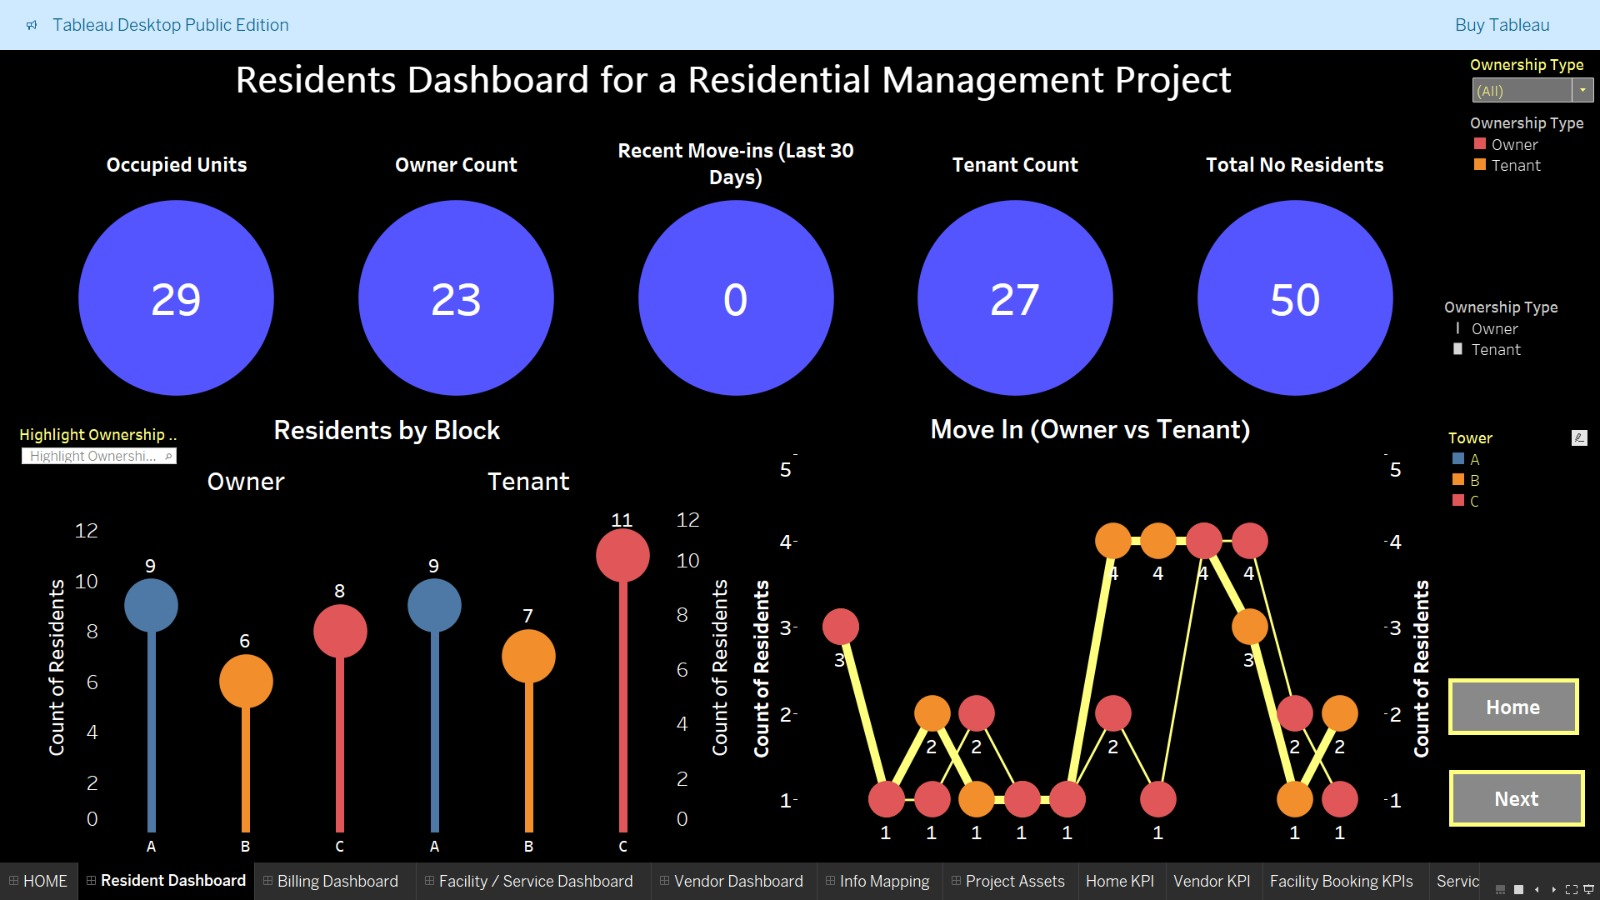

The page's visual inventory and layout, read from the dashboard file:
{"tool":"tableau","page":{"name":"Resident Dashboard","canvas":[1000,1000],"units":"permille","ordinal":5},"visuals":[{"type":"title","box":[0,0,916.7,68.7]},{"type":"filter","title":"Residents By Block","param":"[federated.0xh9awr083edvq17bpfsy1d34hw0].[none:Ownership Type:nk]","box":[916.7,0,83.3,71.8]},{"type":"legend","title":"Move In Resi","param":"[federated.0xh9awr083edvq17bpfsy1d34hw0].[none:Ownership Type:nk]","box":[916.7,71.8,83.3,86.2]},{"type":"worksheet","title":"Res KPI","mark":"Shape","box":[20.6,91.2,878,339.1]},{"type":"legend","title":"Move In Resi","param":"[federated.0xh9awr083edvq17bpfsy1d34hw0].[none:Ownership Type:nk]","box":[902.7,302.9,87.3,101.9]},{"type":"worksheet","title":"Residents By Block","mark":"Automatic","rows":["Residents_D114FB8DA11240758A41103EB1103F2D","Residents_D114FB8DA11240758A41103EB1103F2D"],"cols":["Ownership Type","Tower"],"box":[22.4,446.4,438.9,546.9]},{"type":"highlighter","title":"Residents By Block","param":"[federated.0xh9awr083edvq17bpfsy1d34hw0].[none:Ownership Type:nk]","box":[11.8,459.8,99.8,89.8]},{"type":"legend","title":"Residents By Block","param":"[federated.0xh9awr083edvq17bpfsy1d34hw0].[none:Tower:nk]","box":[905.2,463.8,87.3,135.4]},{"type":"dashboard-object","box":[905.2,773.5,81.7,69.7]},{"type":"dashboard-object","box":[905.9,886.1,84.8,69.7]}]}

Visuals, with their boxes on the dashboard's canvas, which has no fixed pixel size, in thousandths of its width and height (x1, y1, x2, y2). These are canvas units, not pixel positions in the 1600x900 screenshot, which may show the page scaled, cropped or inside an application window:
title: bbox=[0, 0, 917, 69]
"Residents By Block" filter: bbox=[917, 0, 1000, 72]
"Move In Resi" legend: bbox=[917, 72, 1000, 158]
"Res KPI" worksheet (Shape marks): bbox=[21, 91, 899, 430]
"Move In Resi" legend: bbox=[903, 303, 990, 405]
"Residents By Block" worksheet: bbox=[22, 446, 461, 993]
"Residents By Block" highlighter: bbox=[12, 460, 112, 550]
"Residents By Block" legend: bbox=[905, 464, 992, 599]
dashboard-object: bbox=[905, 774, 987, 843]
dashboard-object: bbox=[906, 886, 991, 956]
